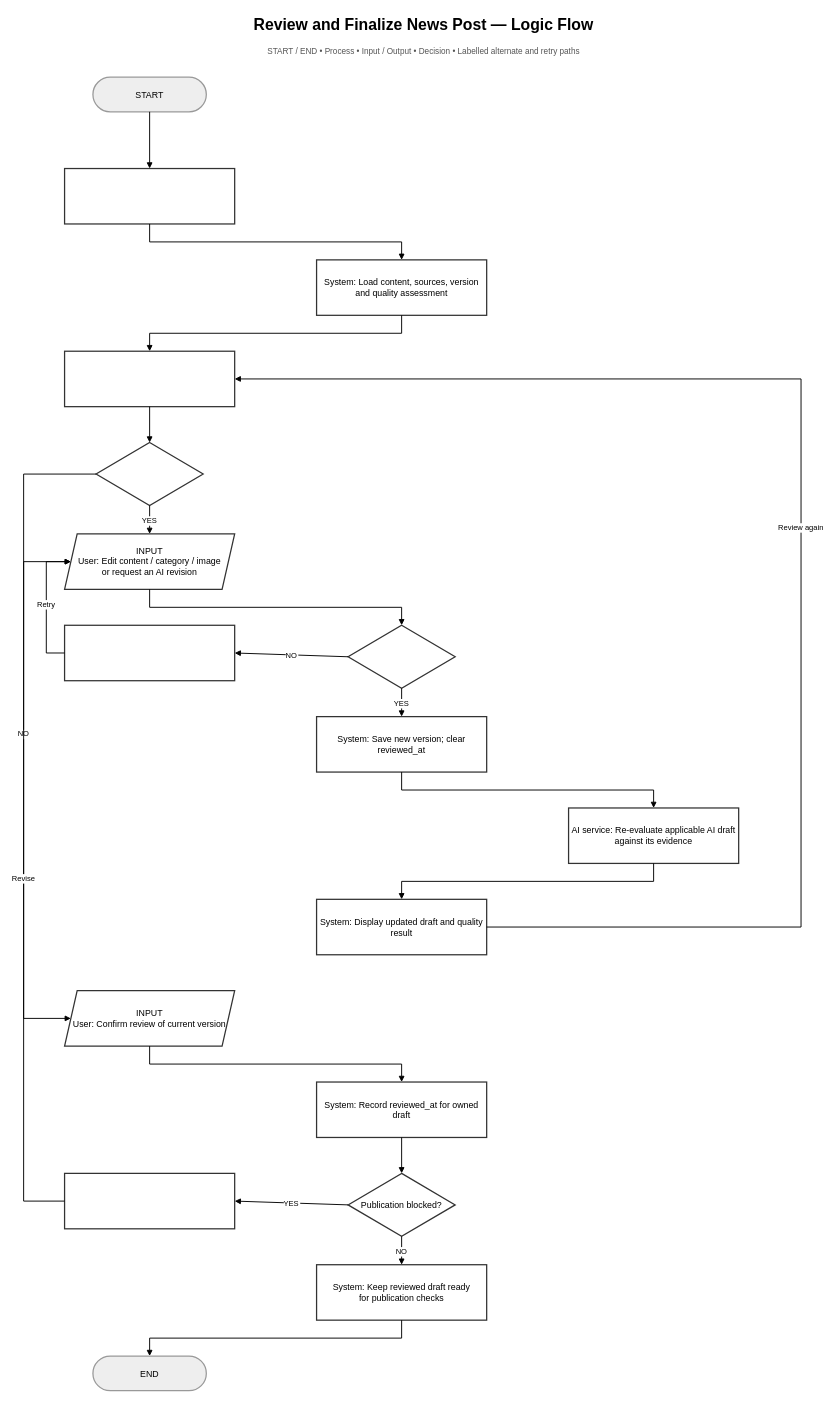
This 837x1402 diagram has some shape labels left out. Each missing label, with the centre of its shape:
Changes needed?: the point at 149,474
Changes valid?: the point at 401,656
Display issue / correction User: Correct validation errors: the point at 149,652
Display issue / correction User: Resolve quality / evidence issues: the point at 149,1200
User: Open own draft: the point at 149,196
User: Review facts, wording, category and image: the point at 149,378
